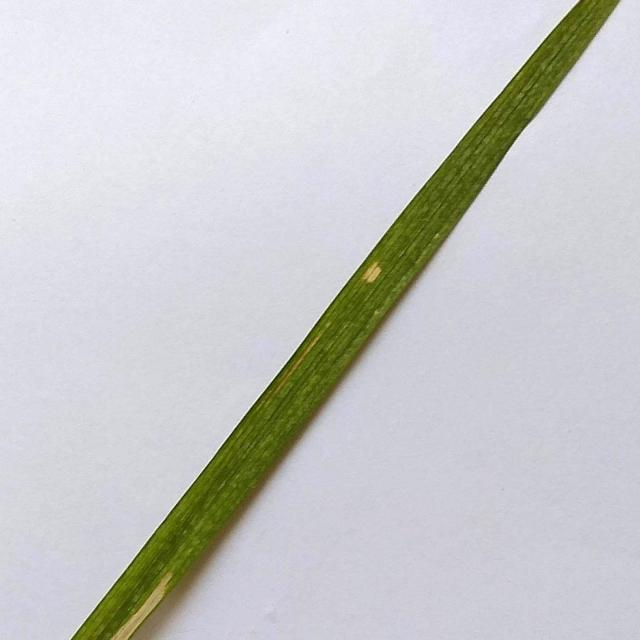Leaf blast: (70, 0, 617, 640)
